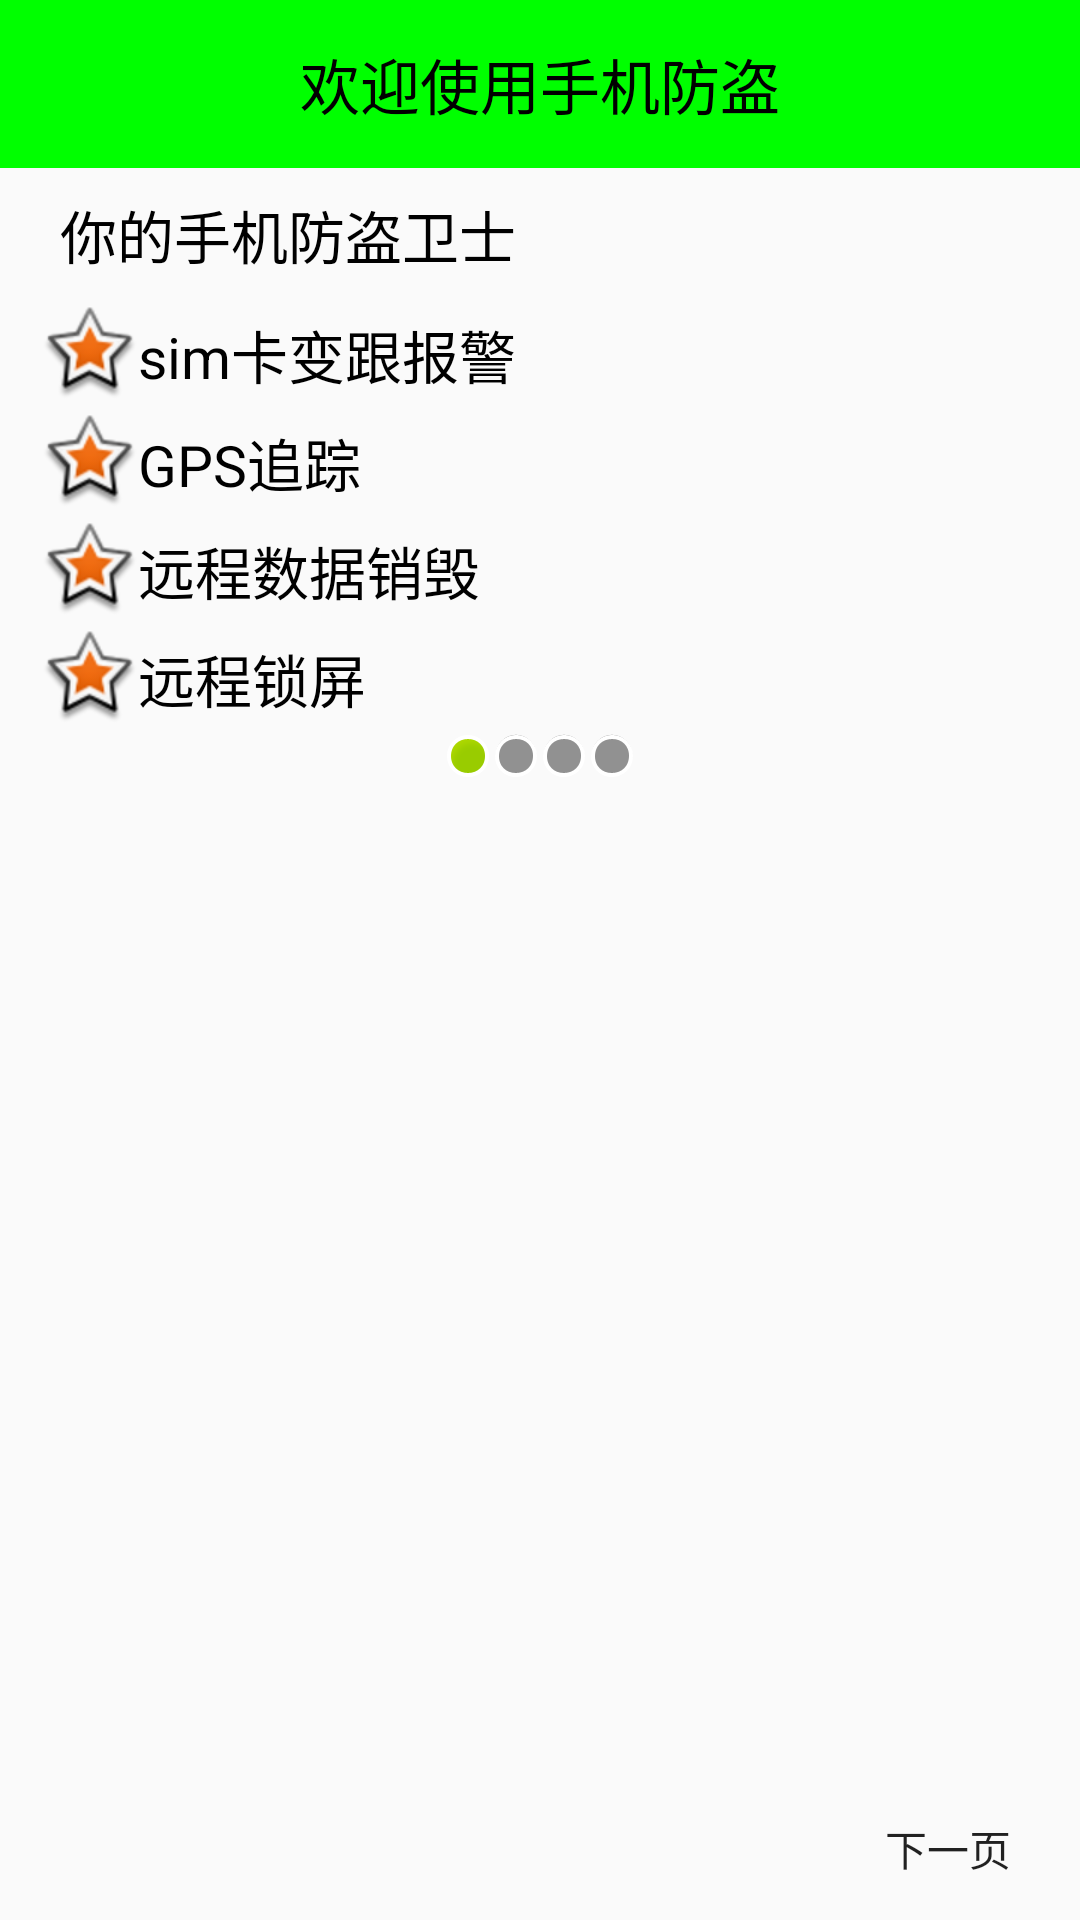

Icon bounding boxes for this 1080 x 1920 phone screenshot, format box=[x1, y1, x2, y2]:
presence invisible: box=[499, 735, 533, 773], box=[547, 735, 581, 773], box=[595, 735, 629, 773]
presence online: box=[451, 739, 485, 773]
